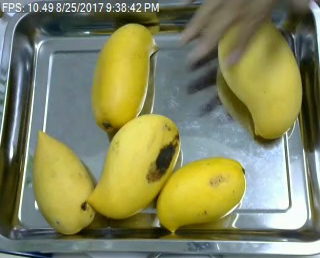Mango: (208, 6, 305, 146), (80, 110, 180, 221), (26, 127, 99, 237), (158, 153, 251, 239), (94, 19, 157, 128)
